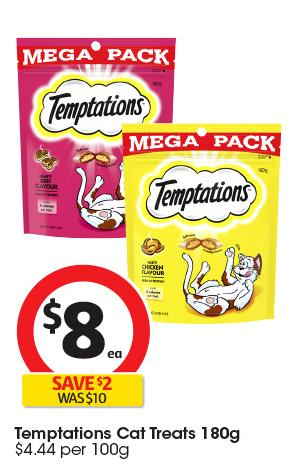description_block: (10, 421, 249, 444)
price_main: (16, 277, 156, 374)
product_image_block: (23, 30, 283, 327)
promo_text_block: (16, 373, 153, 412)
unit_price_block: (14, 440, 133, 461)
